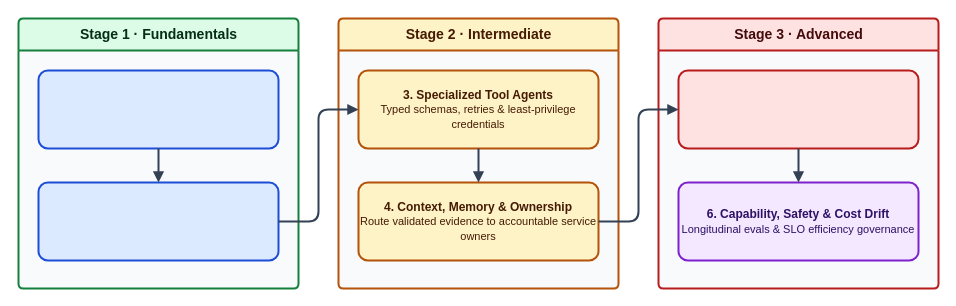
The diagram is 956 pixels wide and 306 high, and some of its shapes have lost their labels. The centre of each missing label's shape, as x and y in pixels:
1. Problem Framing & Intent Separate untrusted data from authorized instructions: [158,109]
2. Prompt-to-Eval Loop Measure task success before expanding autonomy: [158,221]
5. Continuous Production Ops Canary rollouts, incident triage & rollback gates: [798,109]
